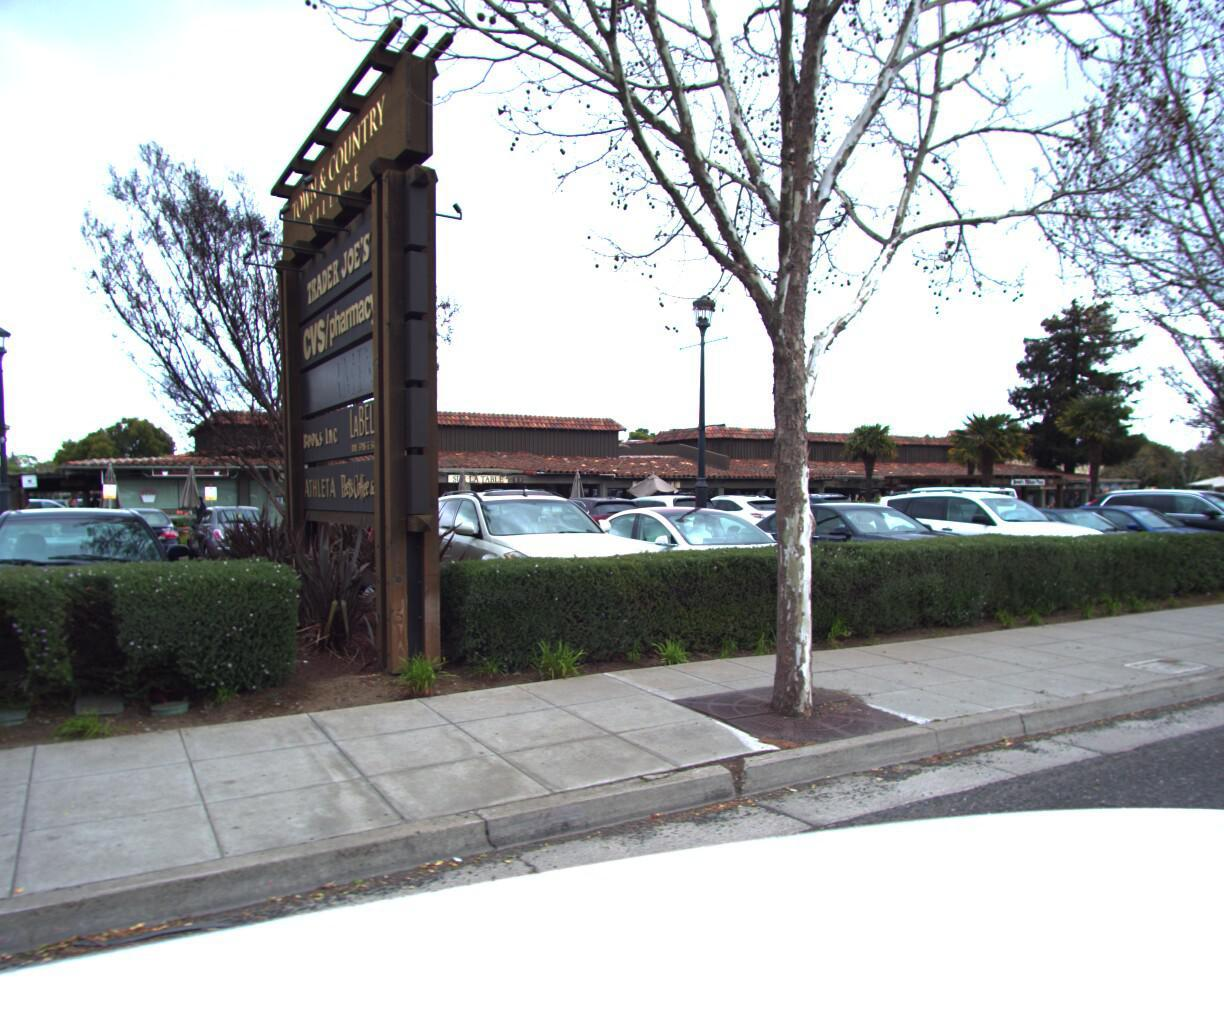car: (394, 481, 660, 648), (0, 500, 192, 707), (554, 501, 832, 629), (857, 483, 1137, 597), (723, 499, 1001, 606), (944, 504, 1183, 585), (1018, 501, 1224, 579), (1074, 486, 1224, 575), (1122, 488, 1224, 567), (1191, 500, 1224, 561)
